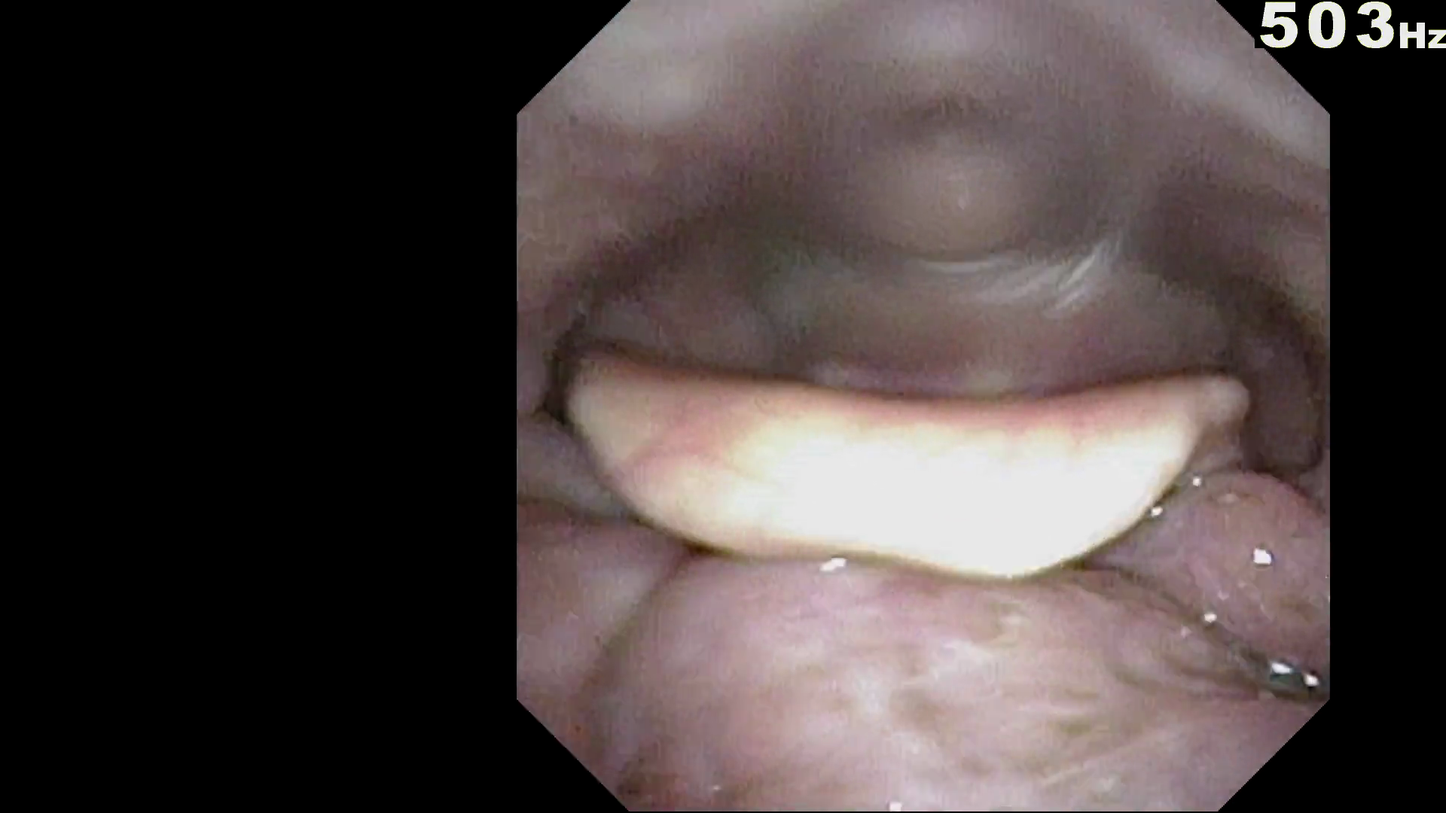epiglottis: (637, 393, 1252, 618)
